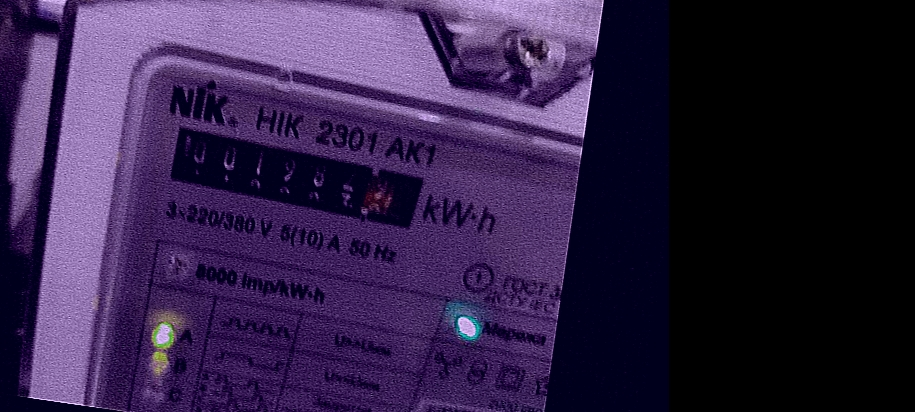0: (218, 143, 239, 174), (189, 135, 209, 166)
1: (250, 147, 266, 178)
2: (339, 163, 360, 194)
8: (309, 160, 329, 190)
9: (368, 173, 392, 204), (278, 154, 297, 185)
screen: (149, 111, 440, 246)
